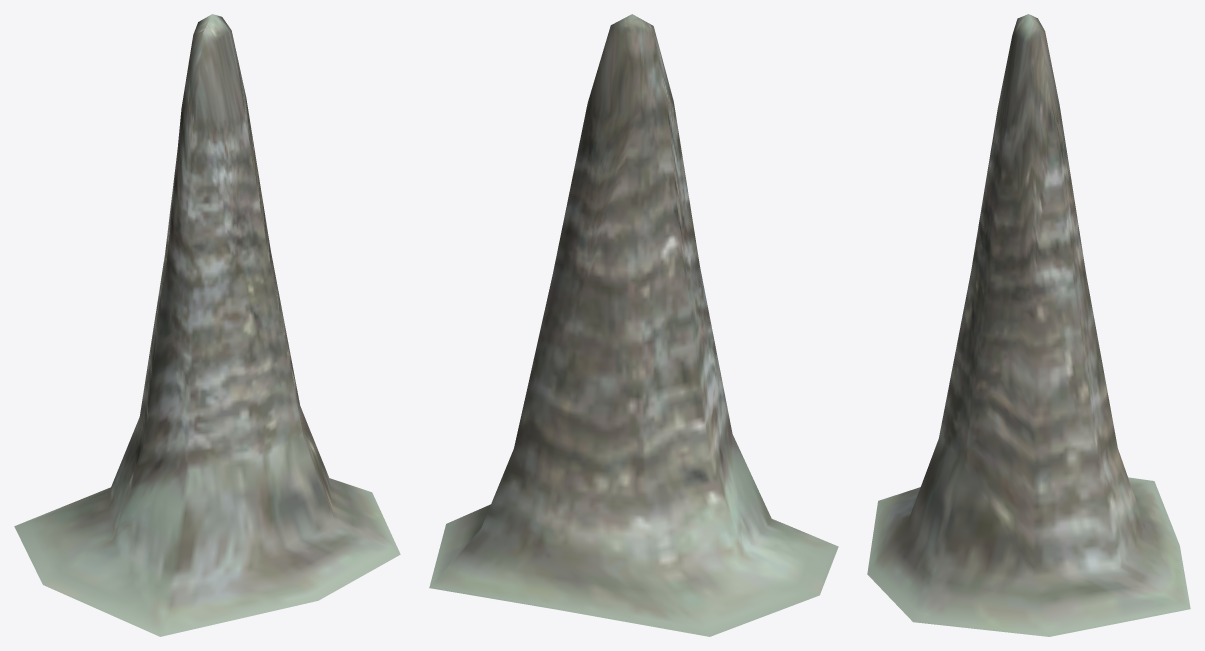
Rendered from TROLLHOLE02_PS-UPPERSTALAG04.fbx.
The picture shows the model from 3 angles, left to right: view 1: azimuth 30°, elevation 25°; view 2: azimuth 150°, elevation 25°; view 3: azimuth 270°, elevation 25°; orthographic projection. The views are drawn at different scales.
Parts seen in each view (by area): view 1: TROLLHOLE02_PS-UPPERSTALAG04; view 2: TROLLHOLE02_PS-UPPERSTALAG04; view 3: TROLLHOLE02_PS-UPPERSTALAG04.
Boxes of the visible parts, bbox=[...] form: TROLLHOLE02_PS-UPPERSTALAG04: bbox=[14, 14, 400, 636]; TROLLHOLE02_PS-UPPERSTALAG04: bbox=[429, 14, 838, 636]; TROLLHOLE02_PS-UPPERSTALAG04: bbox=[867, 14, 1190, 636].
Size of the model in its own units: 16789 by 25005 by 13334.
Materials: 1 (1 with a texture image).
